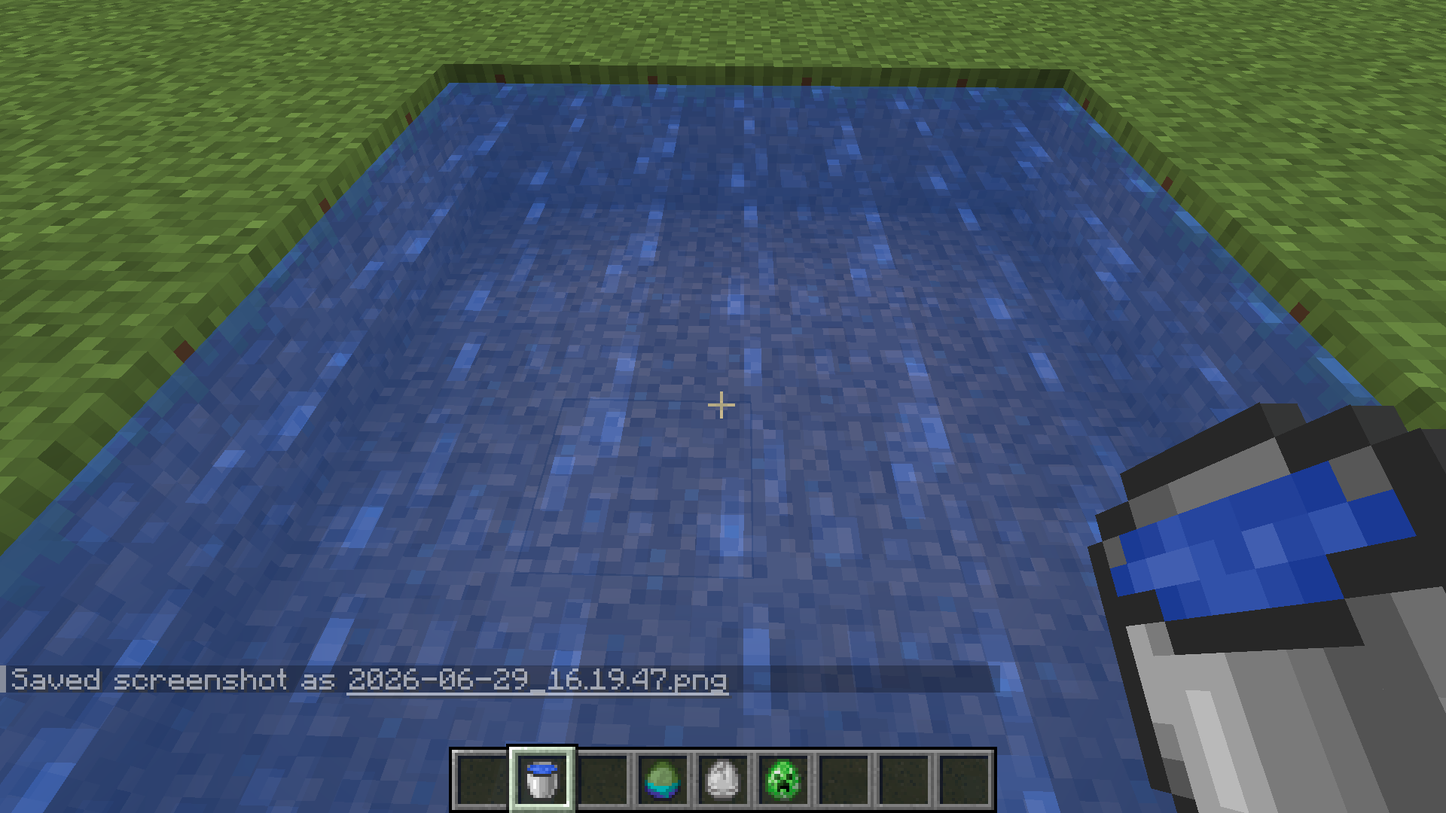water: (446, 88, 1064, 639)
